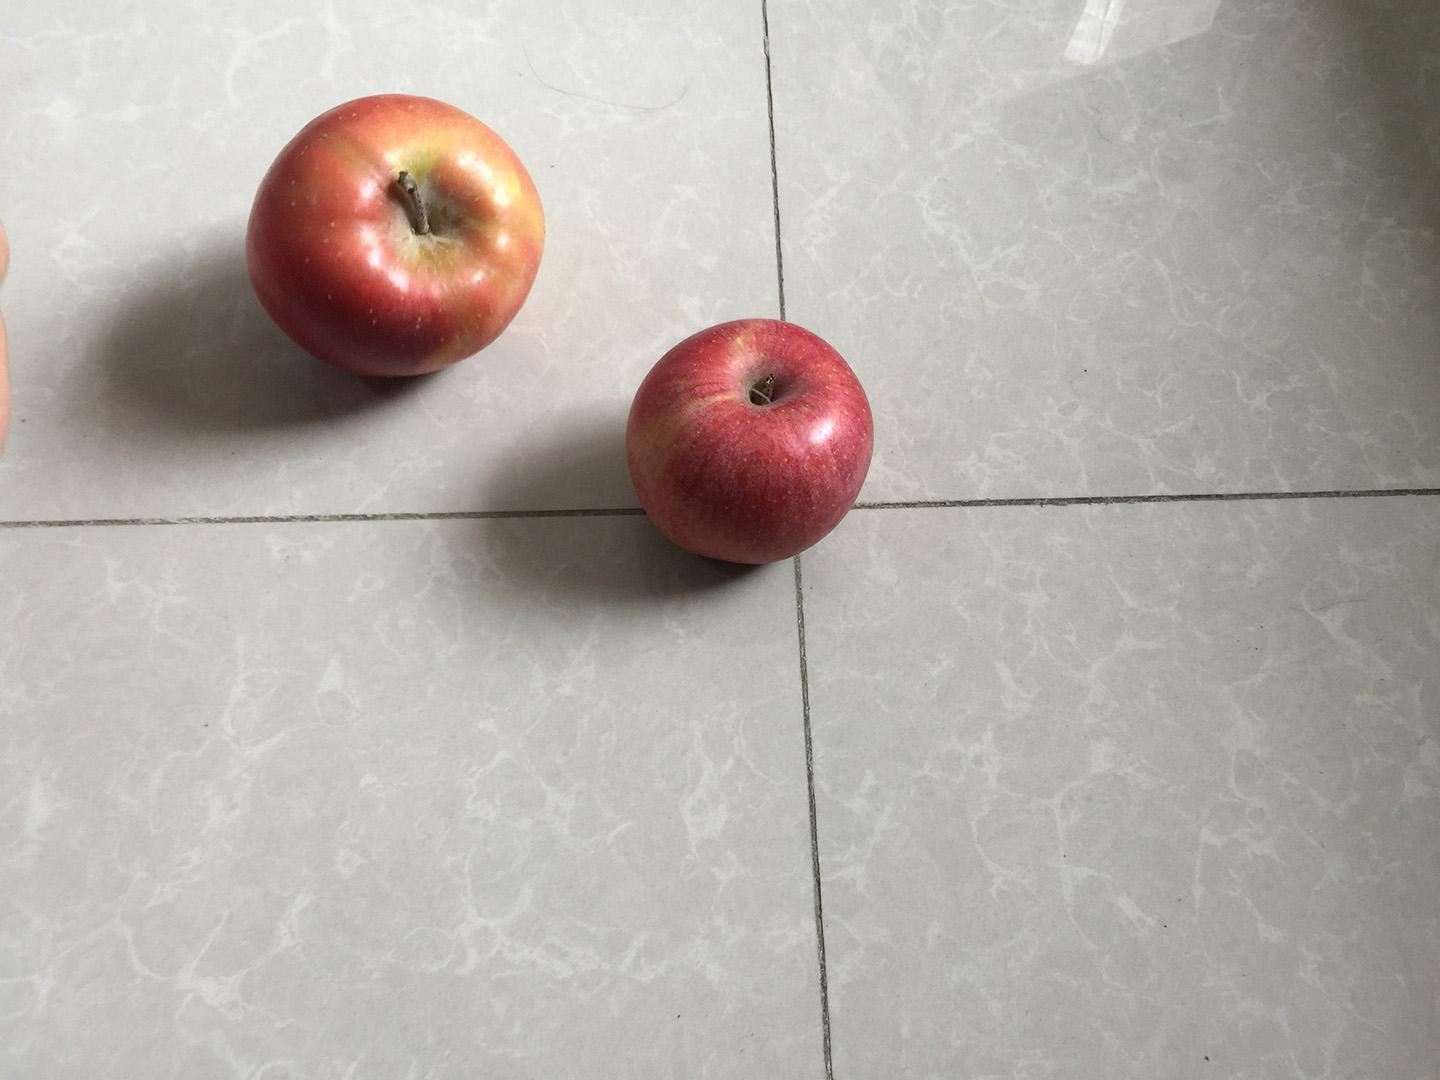apple: (237, 87, 553, 379), (618, 310, 882, 572)
